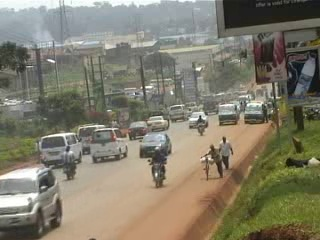Car: (1, 164, 64, 236), (87, 124, 129, 162), (125, 118, 154, 140), (186, 109, 210, 129), (143, 113, 168, 130), (203, 96, 219, 118)
Motorcycle: (147, 145, 169, 191), (60, 144, 79, 180), (195, 113, 206, 136)
